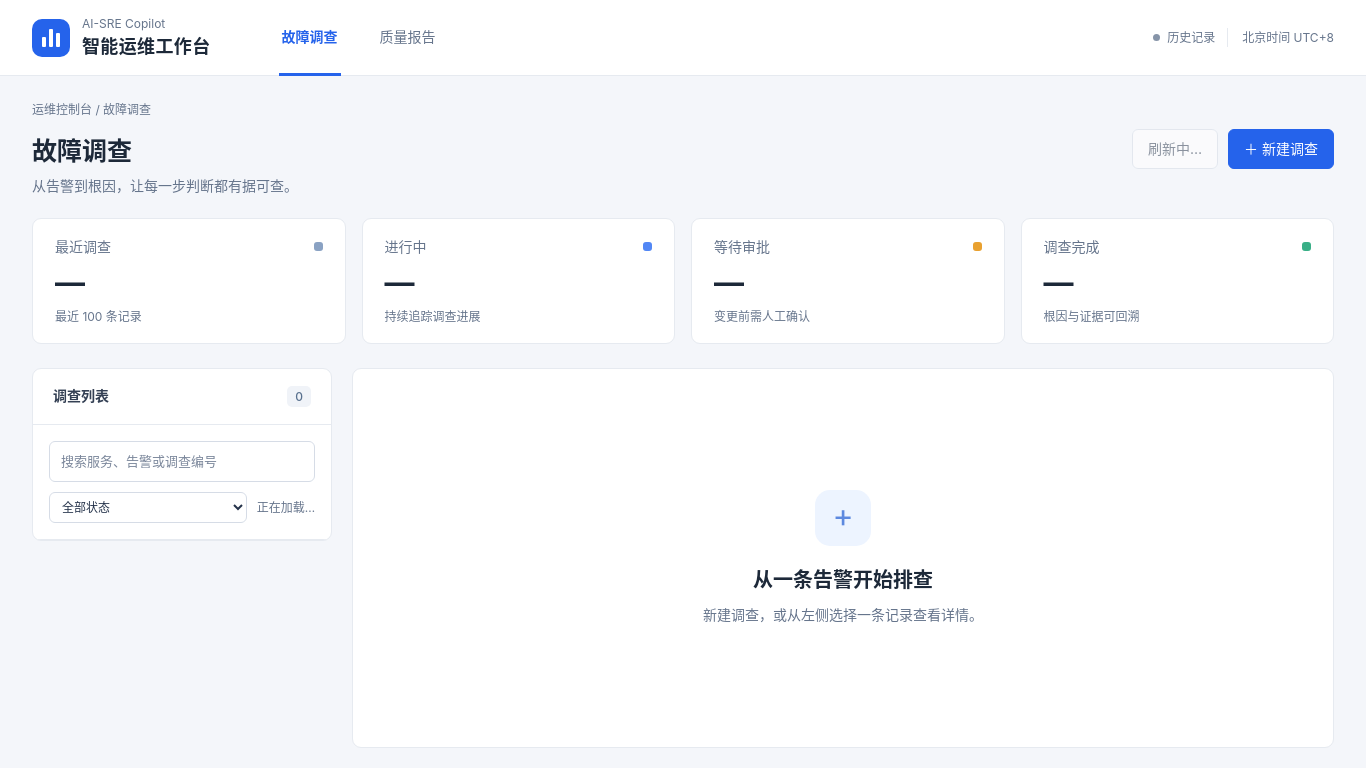
App › explains how to generate a missing evaluation report
What coordinates should you click on to do the following:
click the button "质量报告"
I would click on:
 (408, 38)
Its box is [364,12,450,63].
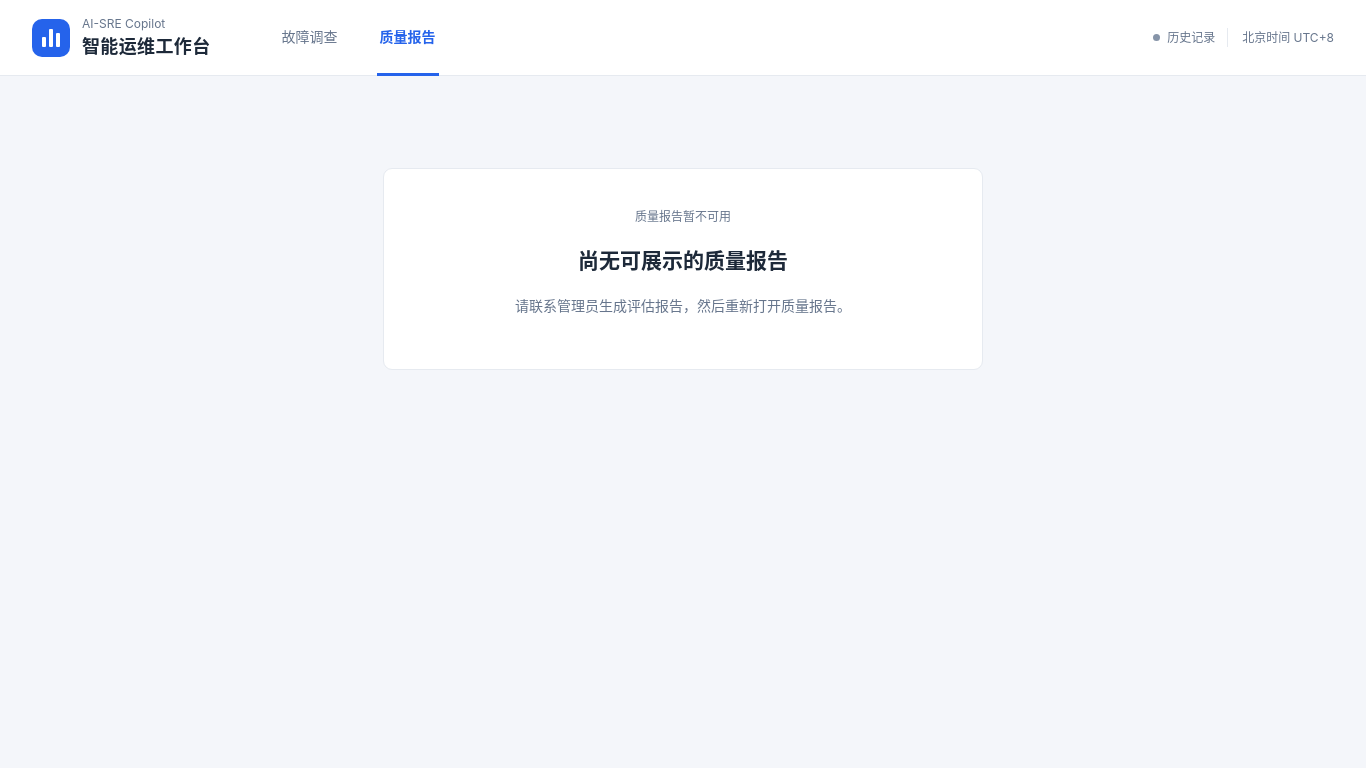
Expected: the heading "尚无可展示的质量报告" is shown, [578,248,788,273]
Expected: the text "请联系管理员生成评估报告，然后重新打开质量报告。" is shown, [515,297,851,314]
